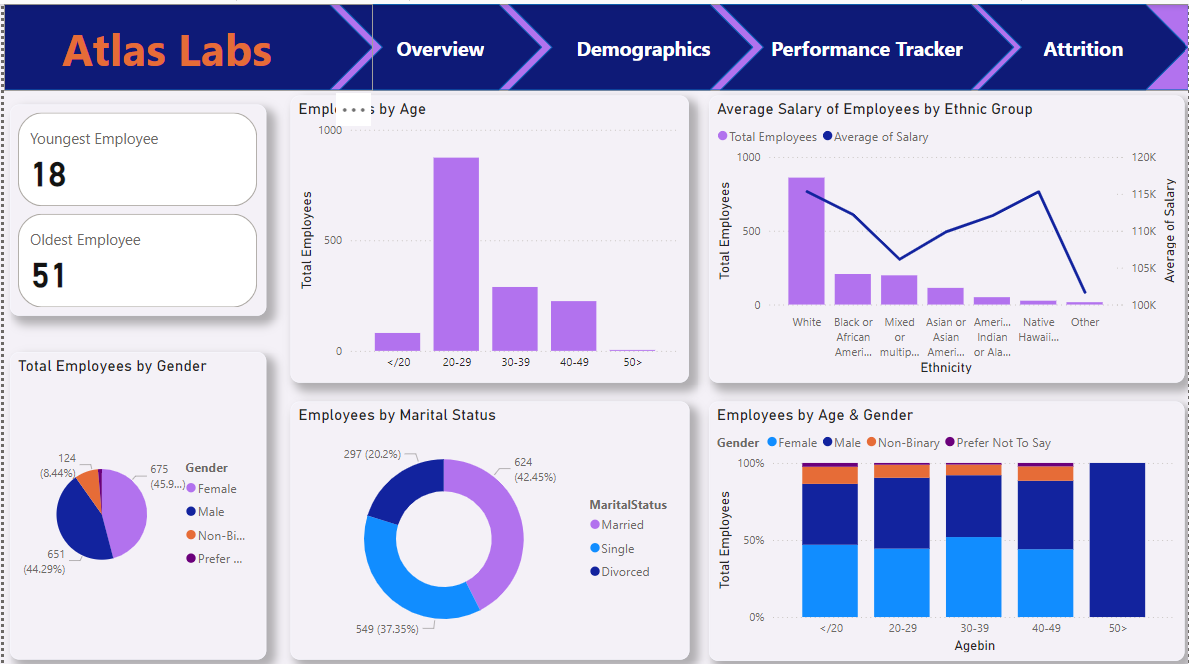

Layout of this report page (visuals, bound fields, positions):
{"tool":"powerbi","page":{"name":"Demographics","canvas":[1280,720],"ordinal":1},"visuals":[{"type":"cardVisual","fields":{"Data":["_Measures.MinAge","_Measures.MaxAge"]},"box":[6.5,108.5,276.9,228.3],"z":0},{"type":"shape","box":[1051.7,0,228.3,93.3],"z":1000,"group":"g1"},{"type":"clusteredColumnChart","title":"Employees by Age","fields":{"Y":["_Measures.Total Employees"],"Category":["DimEmployee.Agebin"]},"box":[310,98.3,430,310],"z":1000},{"type":"hundredPercentStackedColumnChart","title":"Employees by Age & Gender","fields":{"Category":["DimEmployee.Agebin"],"Y":["_Measures.Total Employees"],"Series":["DimEmployee.Gender"]},"box":[761.7,428.3,513.3,280],"z":2000},{"type":"donutChart","title":"Employees by Marital Status","fields":{"Category":["DimEmployee.MaritalStatus"],"Y":["_Measures.Total Employees"]},"box":[309.3,429.1,430.7,278.5],"z":3000},{"type":"lineStackedColumnComboChart","title":"Average Salary of Employees by Ethnic Group","fields":{"Category":["DimEmployee.Ethnicity"],"Y":["_Measures.Total Employees"],"Y2":["Avg(DimEmployee.Salary)"]},"box":[761.7,98.3,513.3,310],"z":4000},{"type":"pieChart","fields":{"Y":["_Measures.Total Employees"],"Category":["DimEmployee.Gender"]},"box":[6.5,375.7,276.9,331.9],"z":5000},{"type":"shape","box":[0,0,1280,93.2],"z":6000},{"type":"shape","box":[361.7,0,220,93.3],"z":9000,"group":"g1"},{"type":"group","id":"g1","title":"Group 1","box":[0,0,1280,93.3],"z":9001},{"type":"shape","box":[543.3,0,265,93.3],"z":10000,"group":"g1"},{"type":"shape","box":[0,0,398.3,93.3],"z":11000,"group":"g1"},{"type":"shape","box":[771.7,0,318.3,93.3],"z":13000,"group":"g1"}]}

Visuals, with their boxes in screenshot pixels (x1, y1, x2, y2), scaled from the page's 1280x720 canvas onto the 1189x664 screenshot:
cardVisual - _Measures.MinAge x _Measures.MaxAge: 6, 100, 263, 311
shape: 977, 0, 1188, 86
"Employees by Age" clusteredColumnChart: 288, 91, 687, 377
"Employees by Age & Gender" hundredPercentStackedColumnChart: 708, 395, 1184, 653
"Employees by Marital Status" donutChart: 287, 396, 687, 653
"Average Salary of Employees by Ethnic Group" lineStackedColumnComboChart: 708, 91, 1184, 377
pieChart - _Measures.Total Employees x DimEmployee.Gender: 6, 346, 263, 653
shape: 0, 0, 1188, 86
shape: 336, 0, 540, 86
"Group 1" group: 0, 0, 1188, 86
shape: 505, 0, 751, 86
shape: 0, 0, 370, 86
shape: 717, 0, 1013, 86
